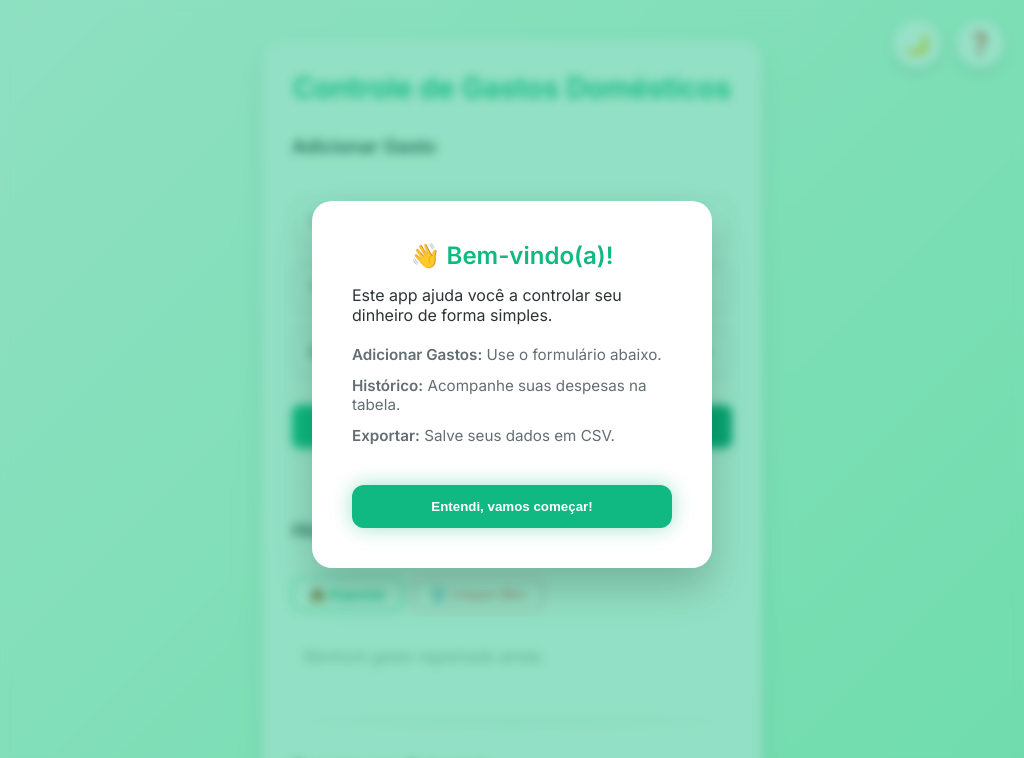
E2E: Validações de Negócio e Integridade › Deve limpar todos os dados após confirmação dupla
This screenshot has width=1024, height=758.
Click the button with test id "btn-fechar-tutorial": (512, 507) [352,485,672,528]
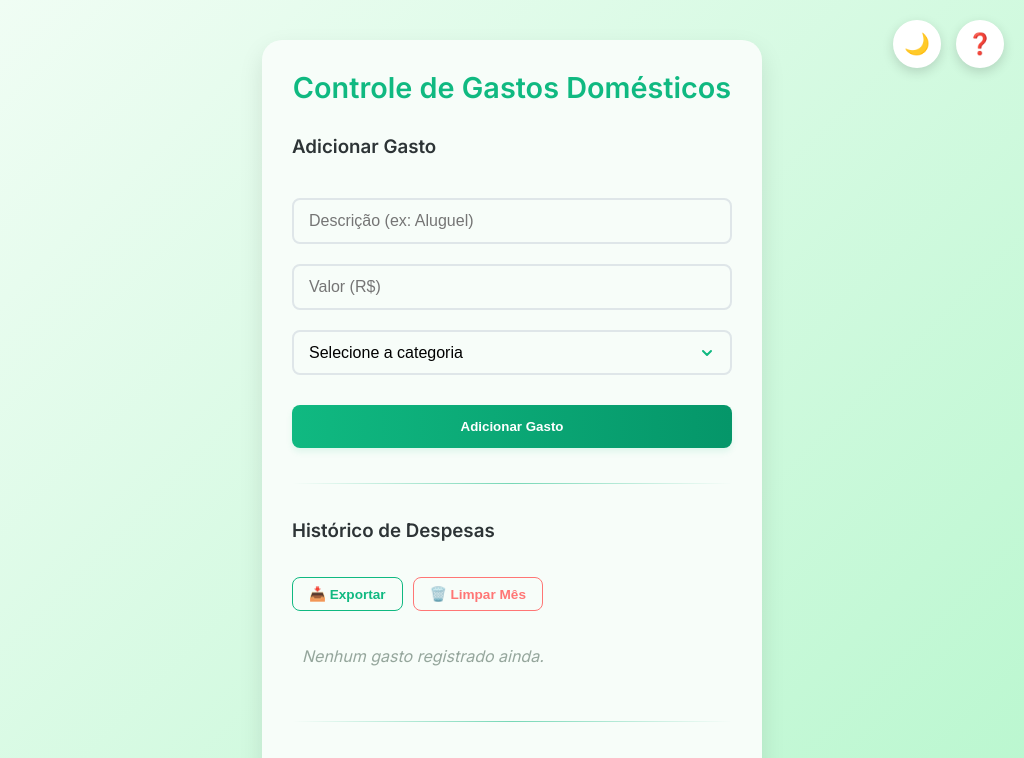
In the field with test id "input-descricao": (512, 221) [292,198,732,244], type "Luz"
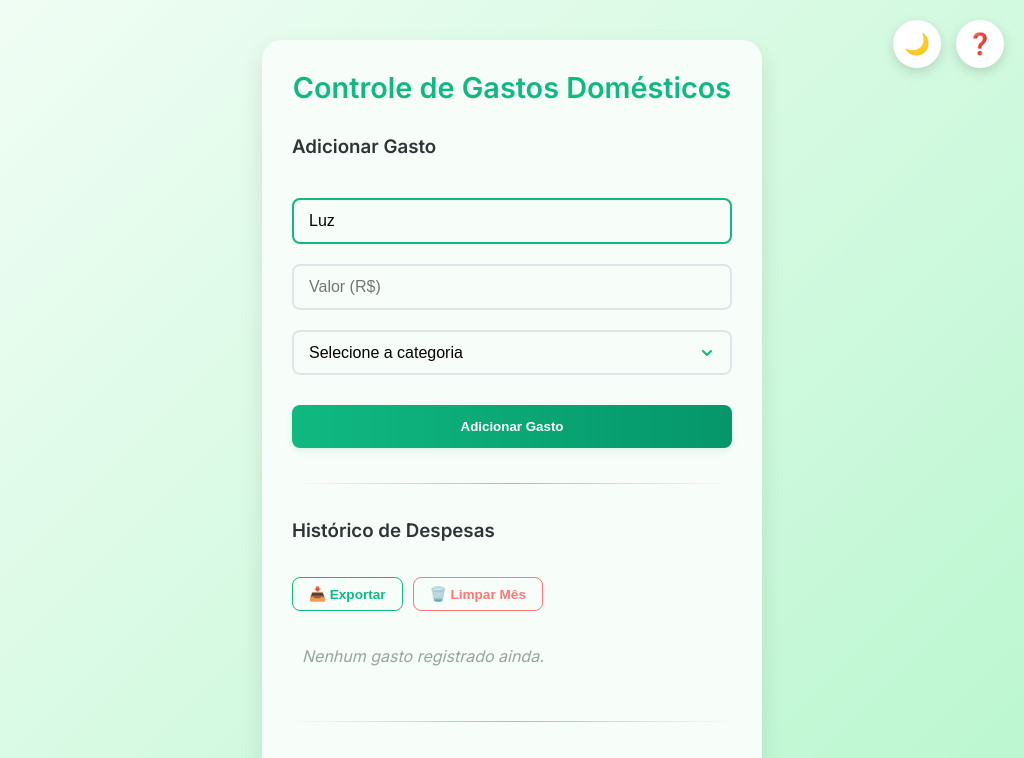
In the number field with test id "input-valor": (512, 287) [292,264,732,310], type "100"
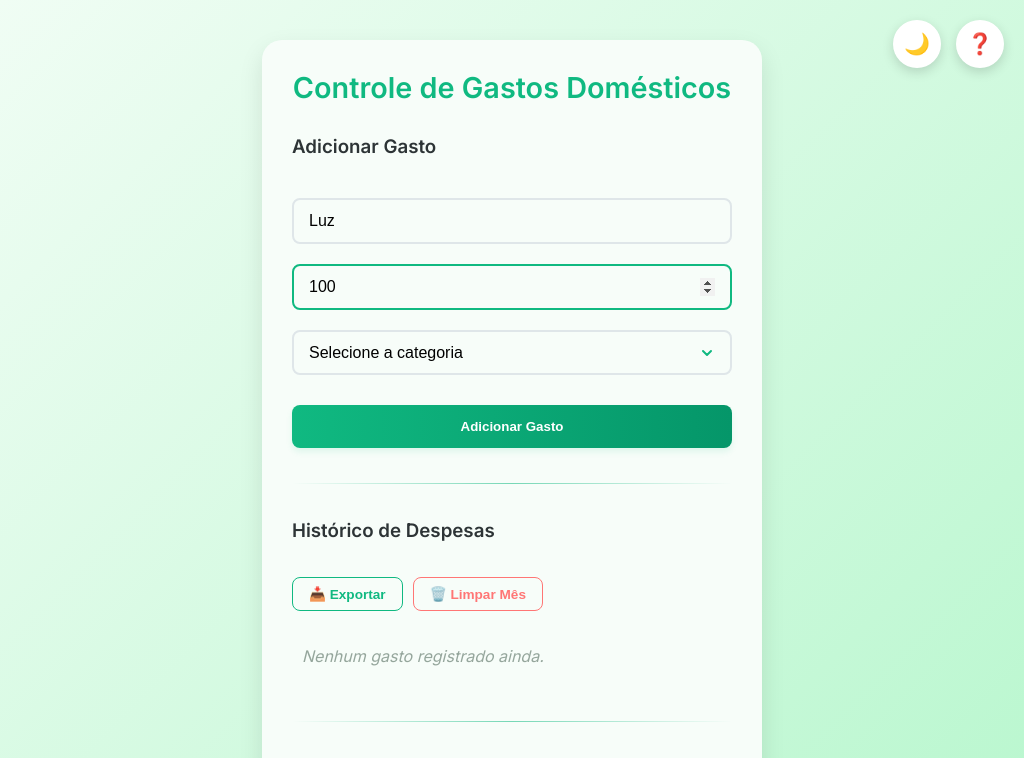
Select "Moradia" in the dropdown with test id "select-categoria": (512, 353) [292,330,732,375]
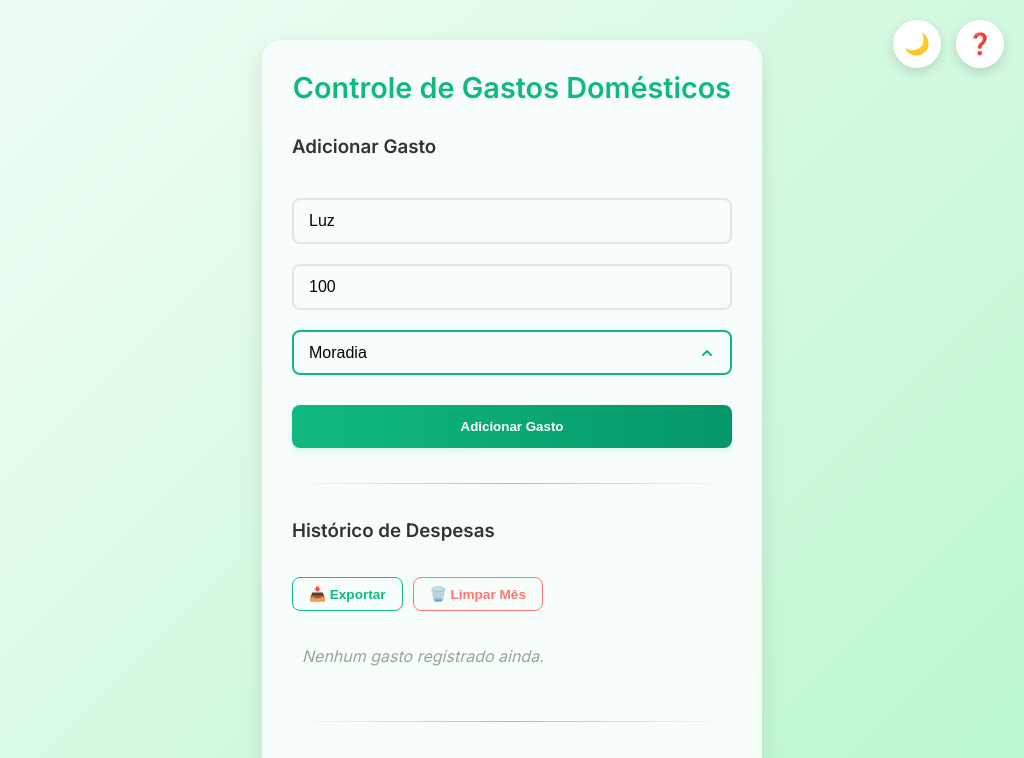
Click the button with test id "btn-adicionar": (512, 427) [292,405,732,448]
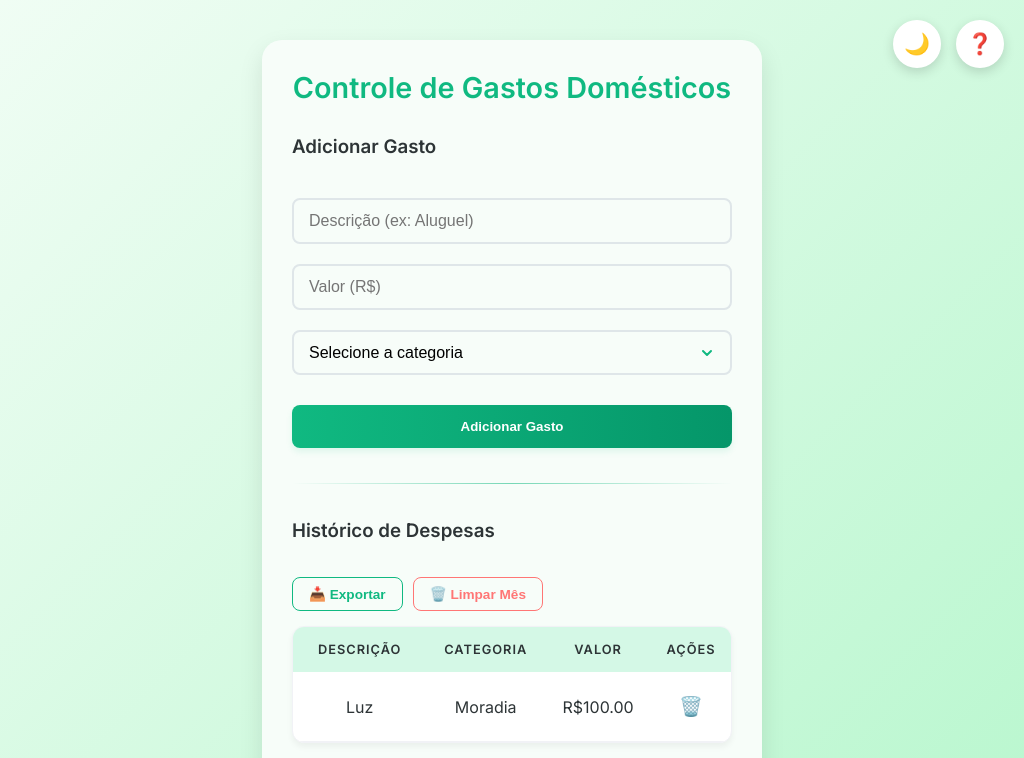
Click the button with test id "btn-limpar": (478, 594) [413,577,543,611]
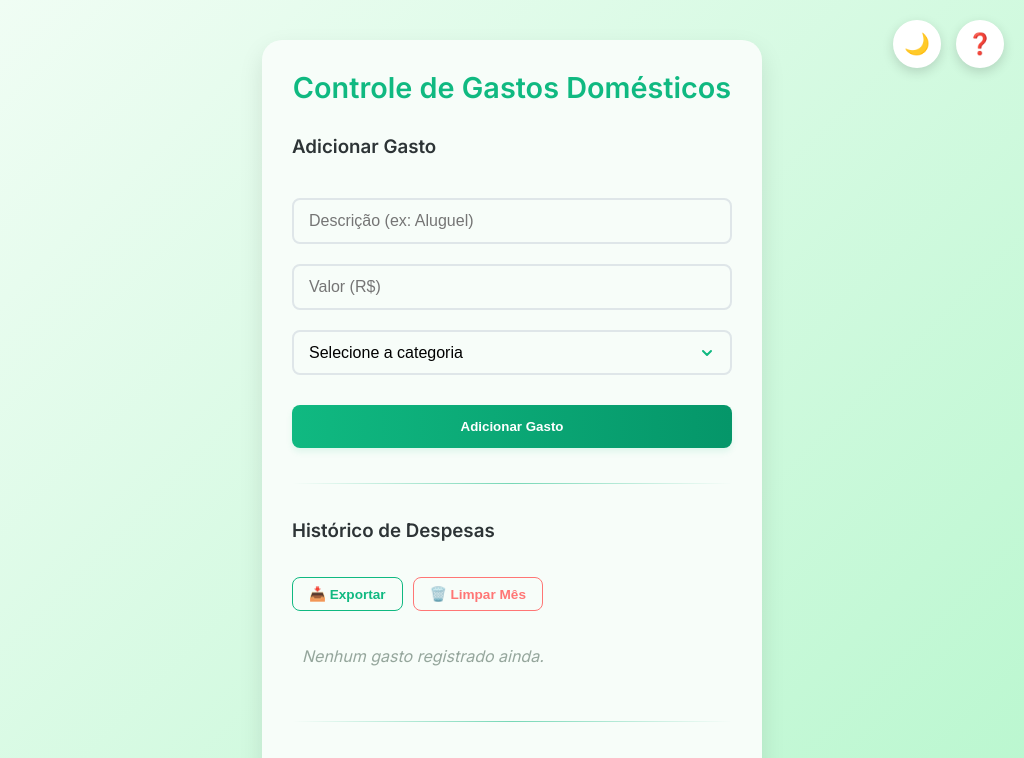
Now the row with test id "item-gasto" is gone
Now the text "Nenhum gasto registrado ainda." is shown, box [302,646,544,666]
